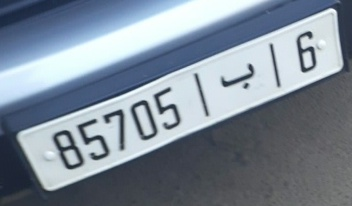0: (128, 100, 159, 142)
5: (76, 115, 111, 160), (152, 85, 181, 131)
6: (293, 28, 320, 74)
7: (102, 107, 132, 152)
8: (49, 129, 86, 171)
b: (216, 62, 264, 94)
